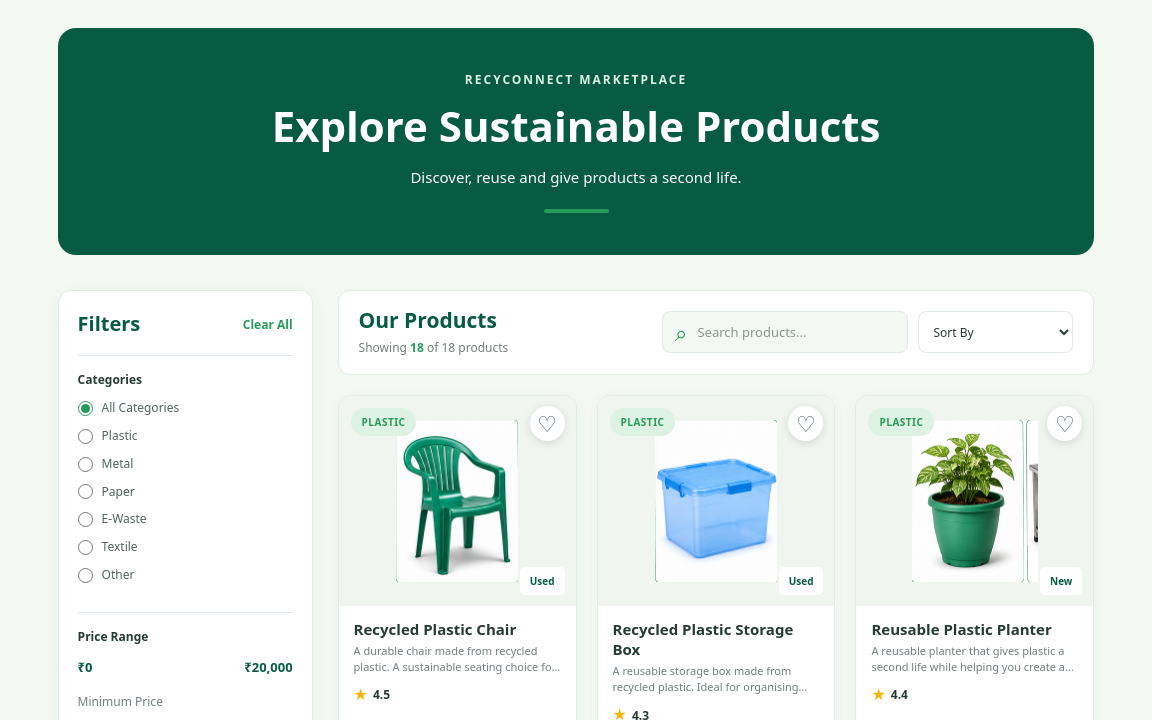
Test: Products Component › clears search and filters using Clear All
The image size is (1152, 720).
Type "NoMatchingProduct12345" into the search field labelled "Search products" at (795, 332), box [695,312,895,352]
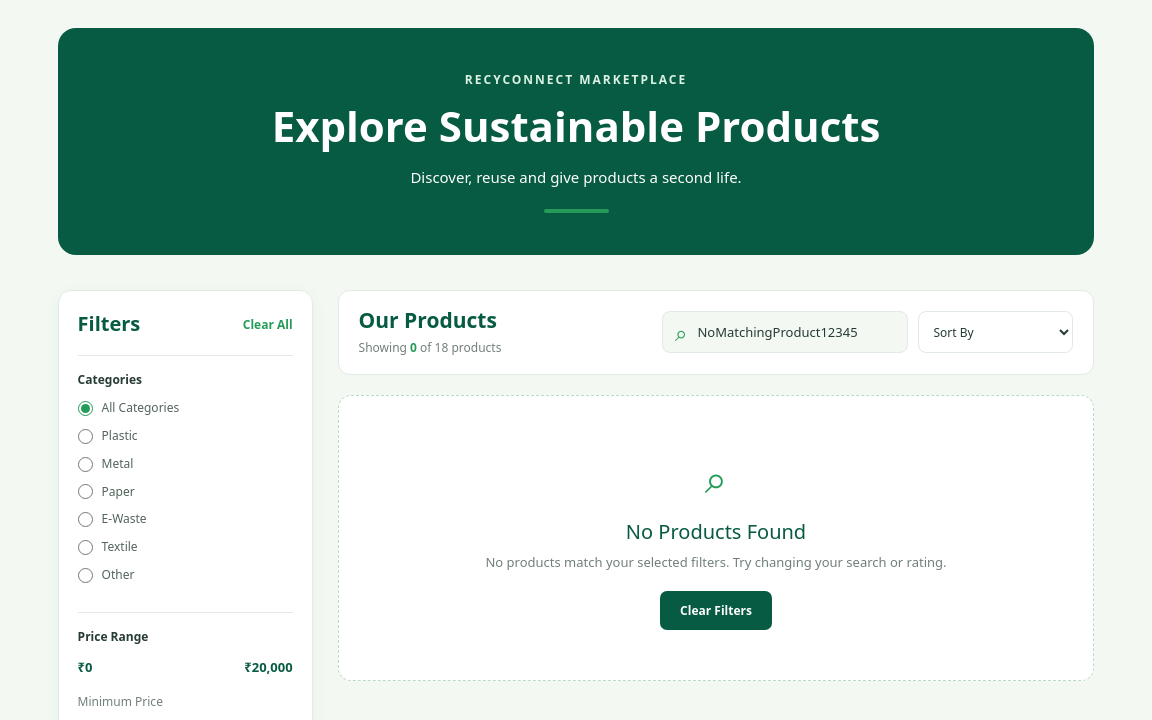
Now the element with class "no-products" is shown, box [338,395,1094,681]
Click the button "Clear All" at (268, 324), box [243,310,293,339]
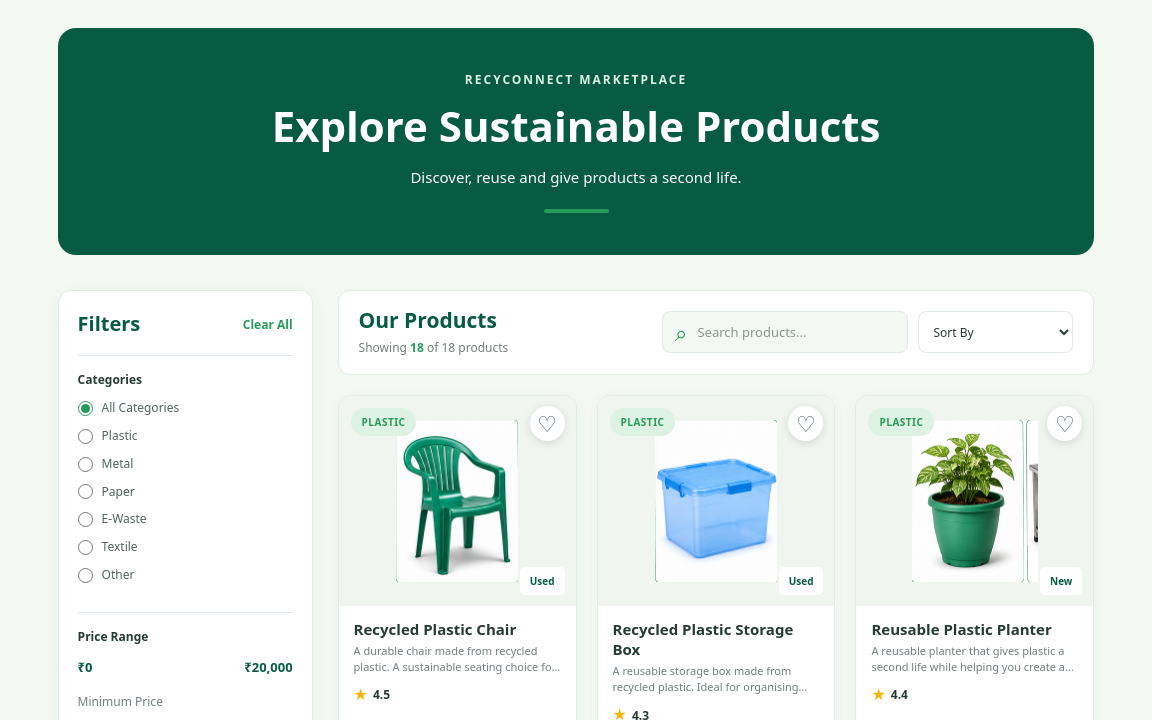
Now the search field labelled "Search products" is empty, box [695,312,895,352]
